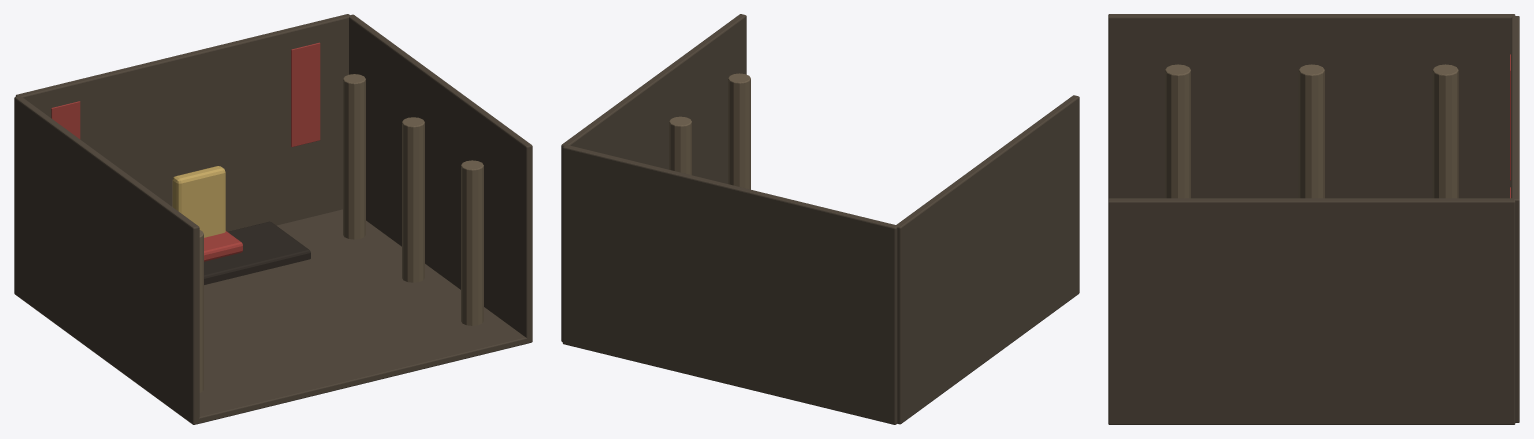
The model's file is castle_interior.glb.
The picture shows the model from 3 angles, left to right: view 1: azimuth 30°, elevation 25°; view 2: azimuth 150°, elevation 25°; view 3: azimuth 270°, elevation 25°; orthographic projection. The views are drawn at different scales.
Visible parts, largest first — view 1: InteriorLeftWall, InteriorBackWall, InteriorFloor, InteriorRightWall, GreatHallColumn.004, GreatHallColumn.005, GreatHallColumn.003, ThroneDais, ThroneBack, GreatHallBanner.001, ThroneSeat, GreatHallColumn (+1 smaller); view 2: InteriorBackWall, InteriorLeftWall, InteriorRightWall, GreatHallColumn.003, GreatHallColumn.004; view 3: InteriorRightWall, InteriorLeftWall, GreatHallColumn.002, GreatHallColumn.001, GreatHallColumn, InteriorBackWall.
Part boxes in pixels (x1,y1,x2,y2): InteriorLeftWall: [14, 96, 199, 424]; InteriorBackWall: [15, 14, 349, 231]; InteriorFloor: [197, 209, 528, 424]; InteriorRightWall: [349, 14, 532, 343]; GreatHallColumn.004: [402, 117, 424, 282]; GreatHallColumn.005: [343, 74, 365, 239]; GreatHallColumn.003: [461, 160, 483, 325]; ThroneDais: [204, 221, 310, 284]; ThroneBack: [172, 166, 225, 237]; GreatHallBanner.001: [291, 42, 320, 147]; ThroneSeat: [204, 231, 242, 261]; GreatHallColumn: [199, 230, 203, 392]; InteriorBackWall: [562, 145, 897, 424]; InteriorLeftWall: [896, 95, 1079, 424]; InteriorRightWall: [561, 14, 746, 341]; GreatHallColumn.003: [728, 73, 750, 189]; GreatHallColumn.004: [669, 116, 691, 175]; InteriorRightWall: [1108, 198, 1515, 424]; InteriorLeftWall: [1108, 14, 1515, 198]; GreatHallColumn.002: [1432, 64, 1458, 198]; GreatHallColumn.001: [1298, 64, 1324, 198]; GreatHallColumn: [1165, 64, 1190, 198]; InteriorBackWall: [1511, 16, 1519, 422].
Size of the model in its own units: 15.3 by 8.5 by 14.15.
